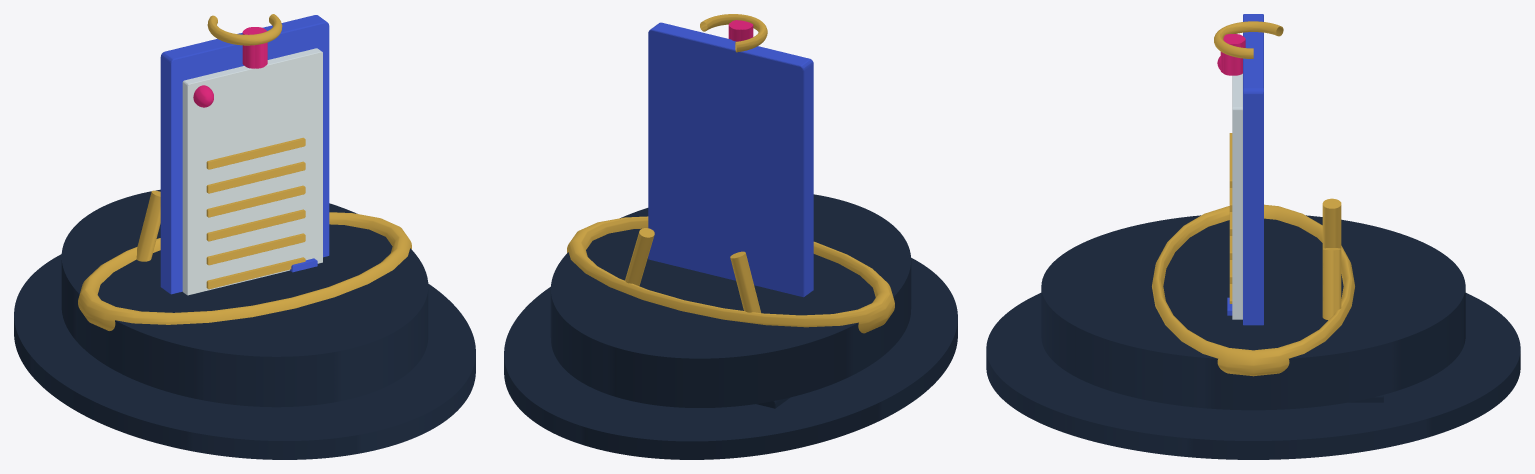
The model's file is 1202_唐图鉴_唐人宫乐图.glb.
3 views of the same model, side by side, from view 1: azimuth 30°, elevation 25°; view 2: azimuth 150°, elevation 25°; view 3: azimuth 270°, elevation 25° (orthographic). The views are drawn at different scales.
Parts seen in each view (by area): view 1: card_1202; view 2: card_1202; view 3: card_1202.
Part boxes in pixels (left/top/right/bottom): card_1202: left=14, top=14, right=475, bottom=459; card_1202: left=504, top=14, right=957, bottom=459; card_1202: left=986, top=14, right=1520, bottom=459.
Size of the model in its own units: 1.19 by 1 by 1.46.
